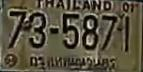1: (125, 16, 129, 53)
3: (27, 11, 45, 47)
5: (62, 13, 78, 48)
7: (8, 11, 26, 48), (101, 14, 116, 50)
8: (81, 14, 97, 49)
BKK: (28, 53, 119, 71)
